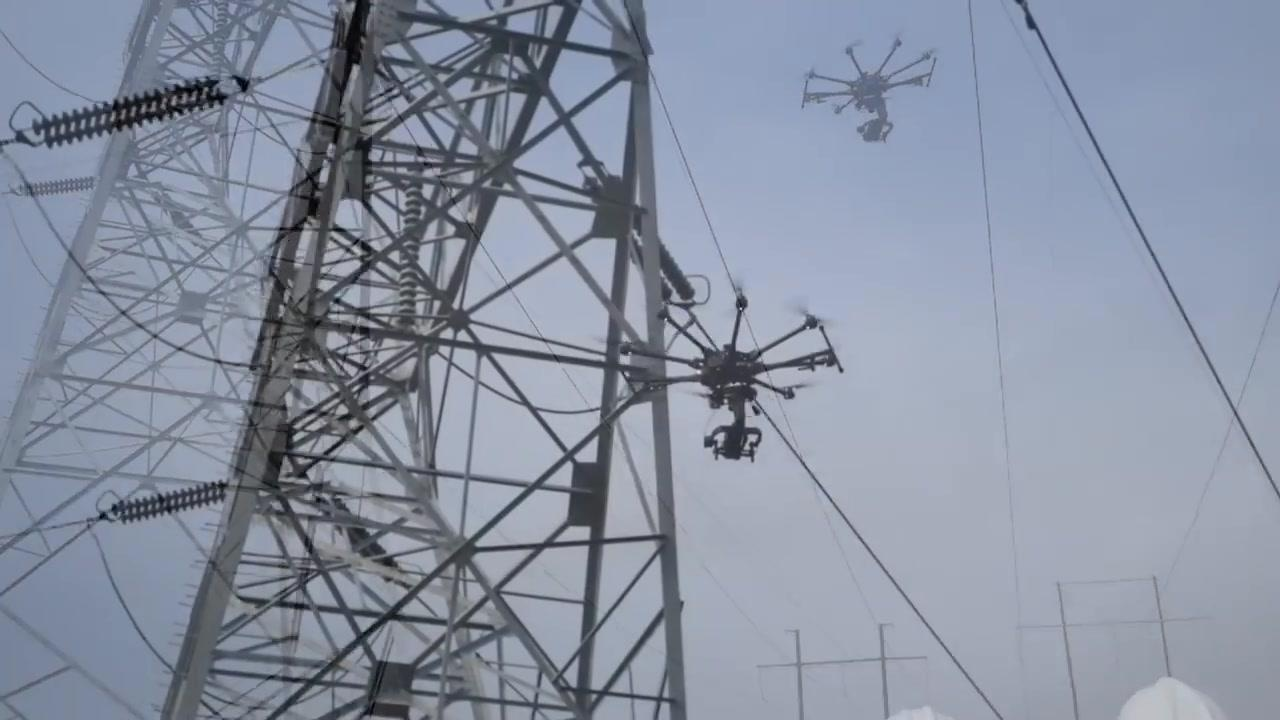UAV: (619, 296, 845, 464), (802, 37, 938, 144)
